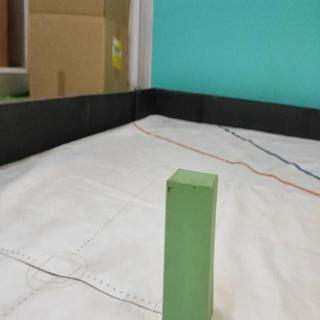greenbox: (161, 167, 220, 320)
